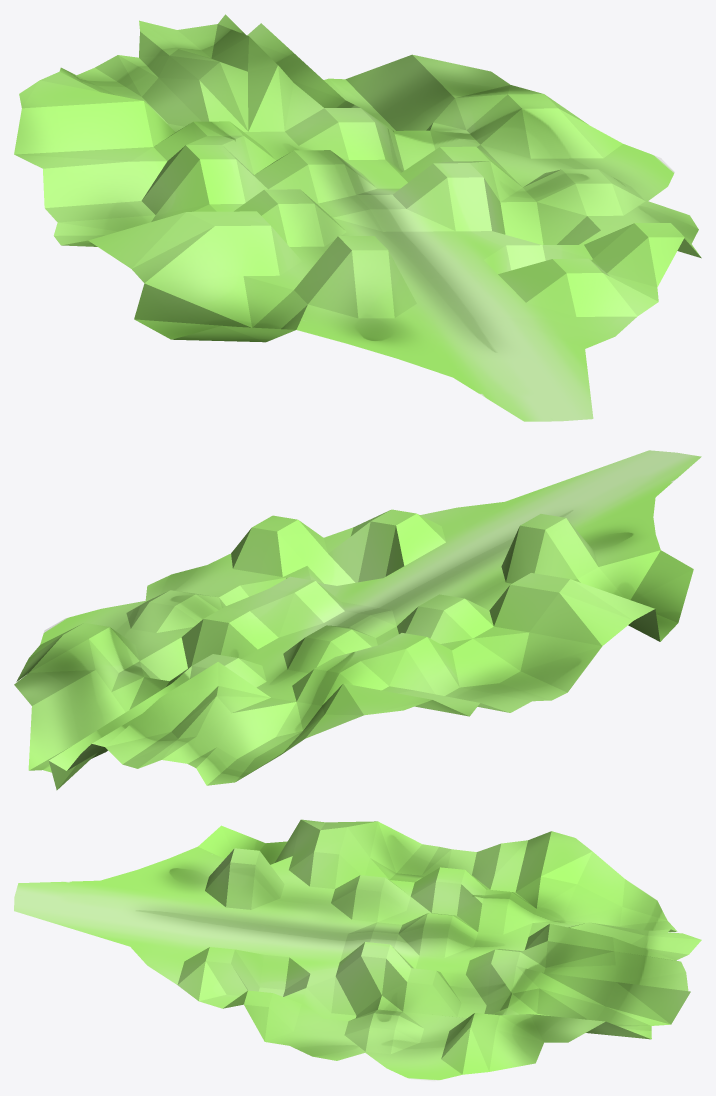
The model's file is ALFACE .dae.
The picture shows the model from 3 angles, top to bottom: view 1: azimuth 30°, elevation 25°; view 2: azimuth 150°, elevation 25°; view 3: azimuth 270°, elevation 25°; orthographic projection. The views are drawn at different scales.
Visible parts, largest first — view 1: Plane; view 2: Plane; view 3: Plane.
Part boxes in pixels (<box>): Plane: <box>14,14,701,421</box>; Plane: <box>14,450,701,790</box>; Plane: <box>14,819,701,1081</box>.
Size of the model in its own units: 2.3 by 3.37 by 0.4969.
Materials: 1 (1 with a texture image).
